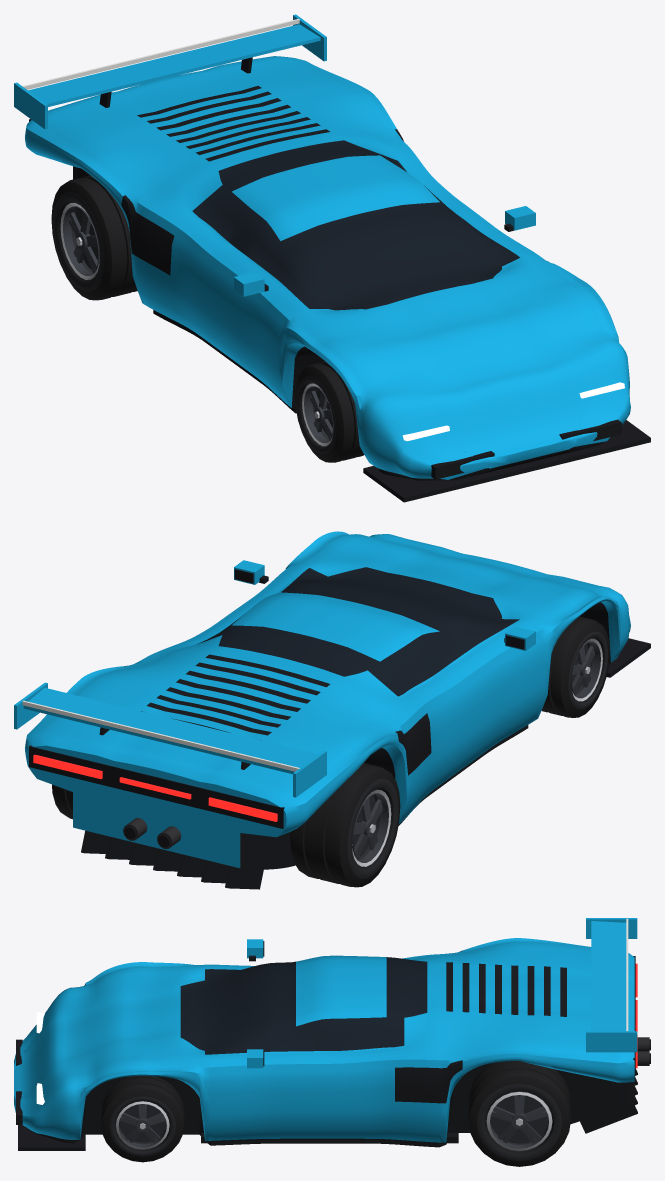
The model's file is viper.glb.
3 renders of one model, top to bottom at view 1: azimuth 30°, elevation 25°; view 2: azimuth 150°, elevation 25°; view 3: azimuth 270°, elevation 25°, orthographic. The views are drawn at different scales.
Parts seen in each view (by area): view 1: body, wheel_RR, wheel_FR; view 2: body, wheel_RR, wheel_FR; view 3: body, wheel_RL, wheel_FL.
Boxes of the visible parts, box(x1,y1,x2,y2) form: body: box(14, 14, 650, 502); wheel_RR: box(51, 175, 137, 300); wheel_FR: box(295, 361, 364, 462); body: box(14, 531, 650, 889); wheel_RR: box(290, 763, 400, 887); wheel_FR: box(541, 616, 609, 717); body: box(14, 918, 650, 1150); wheel_RL: box(468, 1061, 570, 1166); wheel_FL: box(100, 1076, 184, 1162).
Size of the model in its own units: 2.1 by 1.1 by 4.7.
